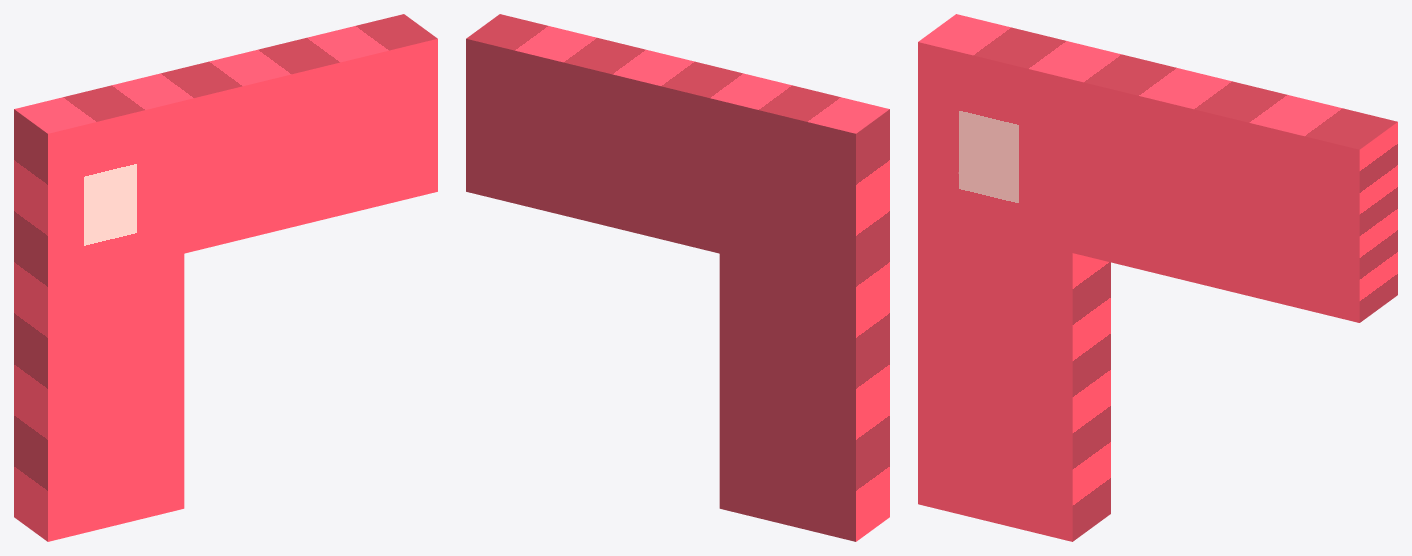
3 views of the same model, side by side, from view 1: azimuth 30°, elevation 25°; view 2: azimuth 150°, elevation 25°; view 3: azimuth 330°, elevation 25° (orthographic). The views are drawn at different scales.
Bounding box in the file's own units: 2 × 2 × 0.3.
Materials: 1 (1 with a texture image).
